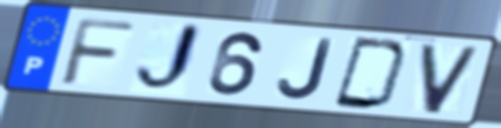6: (206, 29, 265, 99)
D: (329, 34, 413, 112)
F: (57, 15, 139, 89)
J: (132, 20, 206, 96), (275, 36, 336, 102)
V: (418, 41, 484, 116)
